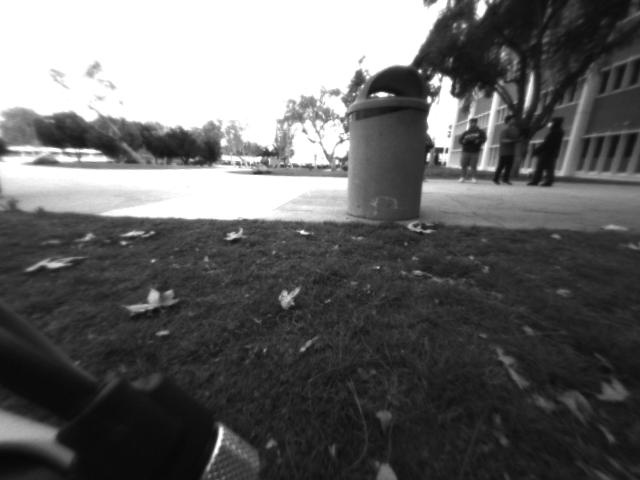trashcan: (348, 66, 426, 222)
